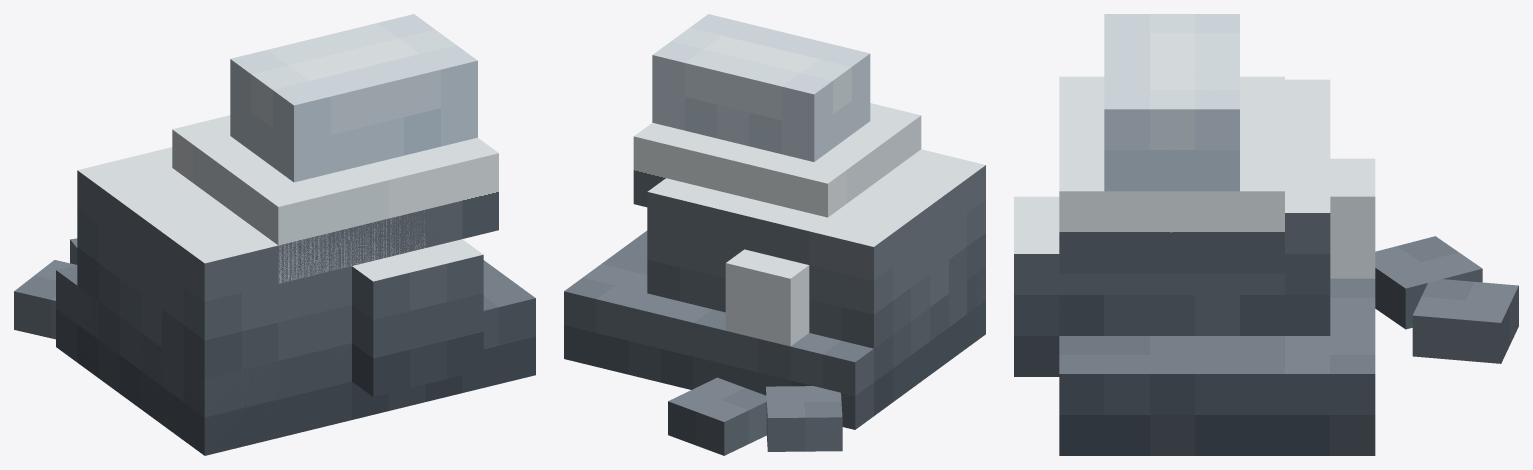
Rendered from frost_rock_small.glb.
3 renders of one model, left to right at view 1: azimuth 30°, elevation 25°; view 2: azimuth 150°, elevation 25°; view 3: azimuth 270°, elevation 25°, orthographic. The views are drawn at different scales.
Visible parts, largest first — view 1: stone, snow_cap_1, pebble_1; view 2: stone, snow_cap_1, pebble_2, pebble_1; view 3: stone, snow_cap_1, pebble_2, pebble_1.
Boxes of the visible parts, x1=… form: stone: x1=56, y1=115, x2=535, y2=455; snow_cap_1: x1=230, y1=14, x2=477, y2=182; pebble_1: x1=14, y1=260, x2=76, y2=339; stone: x1=564, y1=103, x2=985, y2=429; snow_cap_1: x1=652, y1=14, x2=870, y2=161; pebble_2: x1=668, y1=377, x2=766, y2=455; pebble_1: x1=766, y1=386, x2=842, y2=451; stone: x1=1014, y1=76, x2=1375, y2=455; snow_cap_1: x1=1104, y1=14, x2=1239, y2=191; pebble_2: x1=1412, y1=279, x2=1518, y2=363; pebble_1: x1=1375, y1=236, x2=1482, y2=329.
Size of the model in its own units: 0.293 by 0.25 by 0.3493.
1 material, 1 textured.
